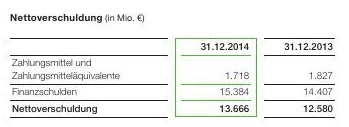table: (0, 0, 349, 127)
